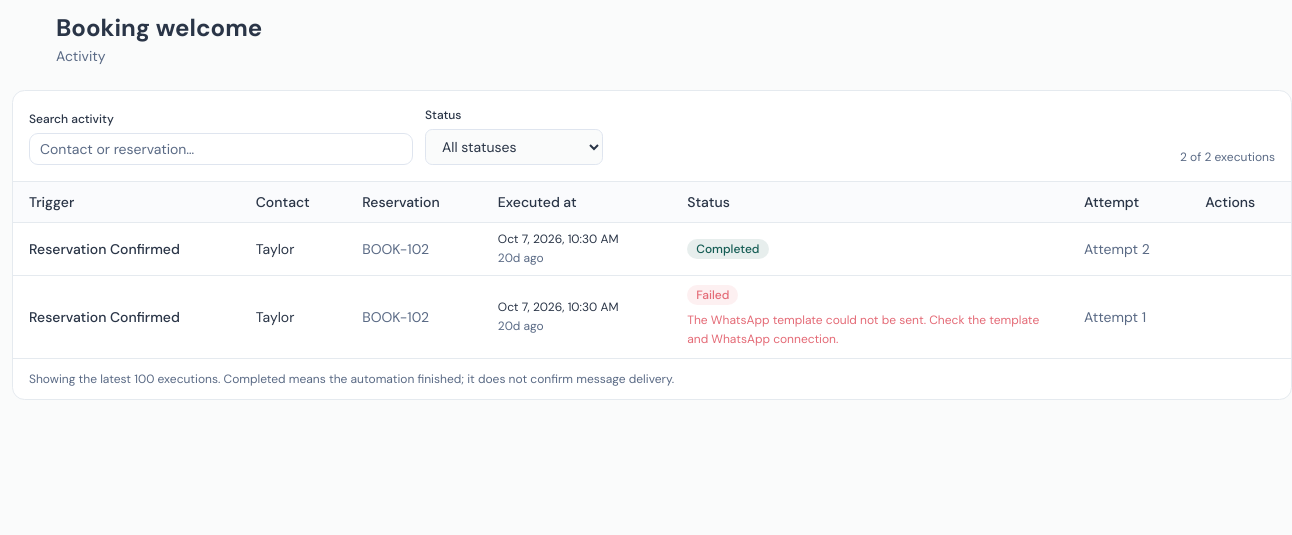
Test: shows host context and distinct failed/completed attempts without technical internals
Click the button "Reservation Confirmed" in the row of "Attempt 2" at (104, 248), box [29, 238, 180, 258]
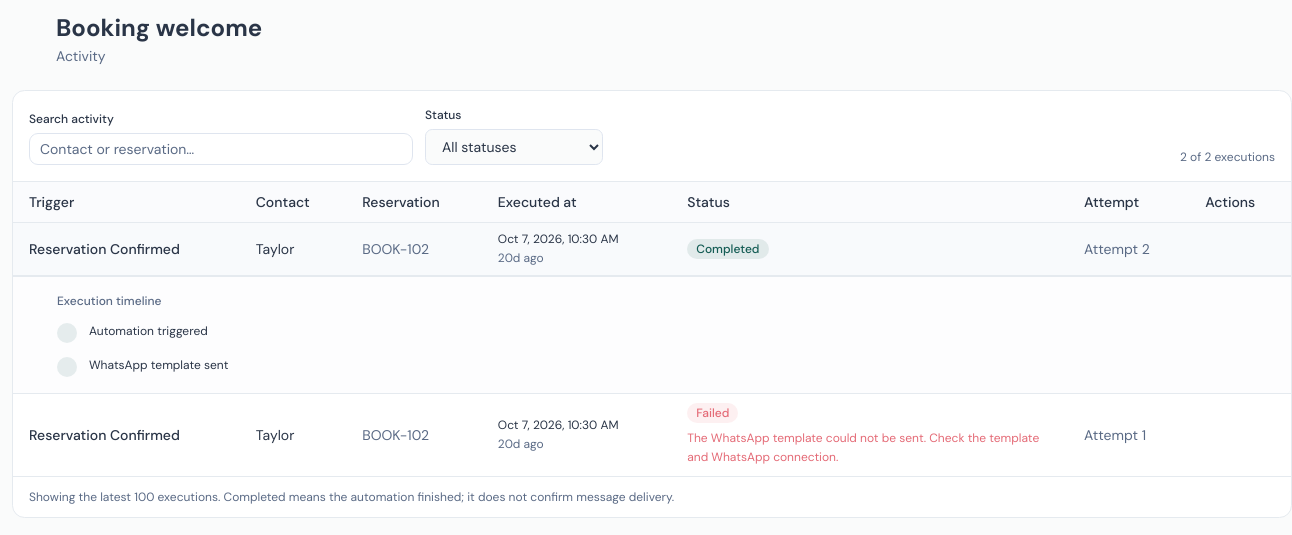
Result: the text "Automation triggered" is shown at [89, 322, 208, 338]
Result: the text "WhatsApp template sent" is shown at [89, 356, 228, 372]
